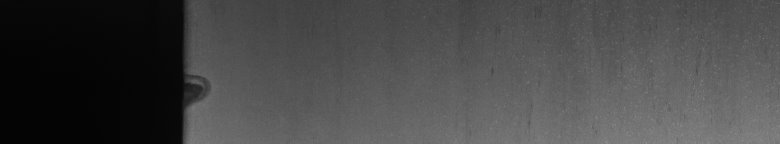hb: (192, 72, 212, 108)
